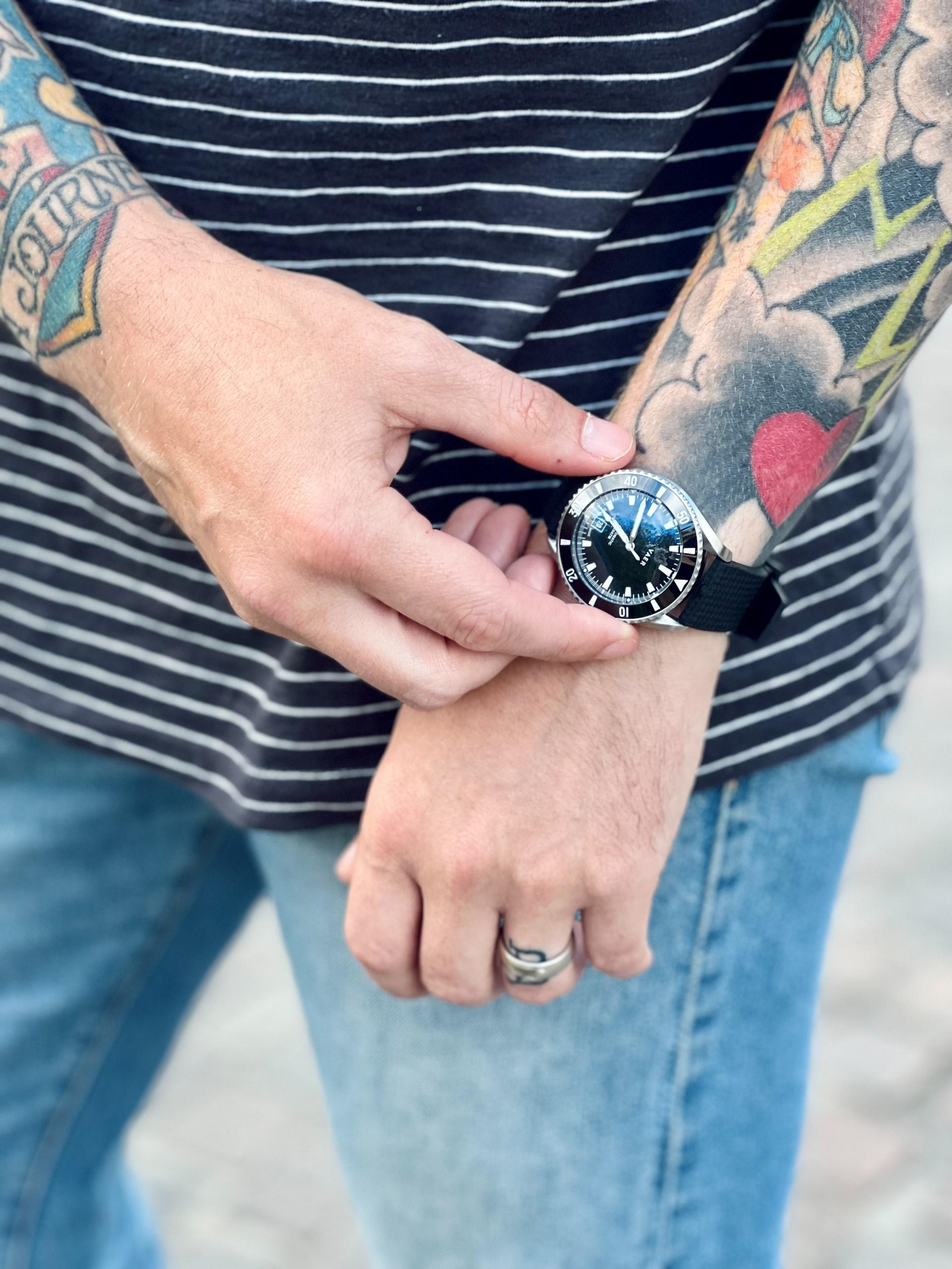watch: (539, 451, 808, 660)
